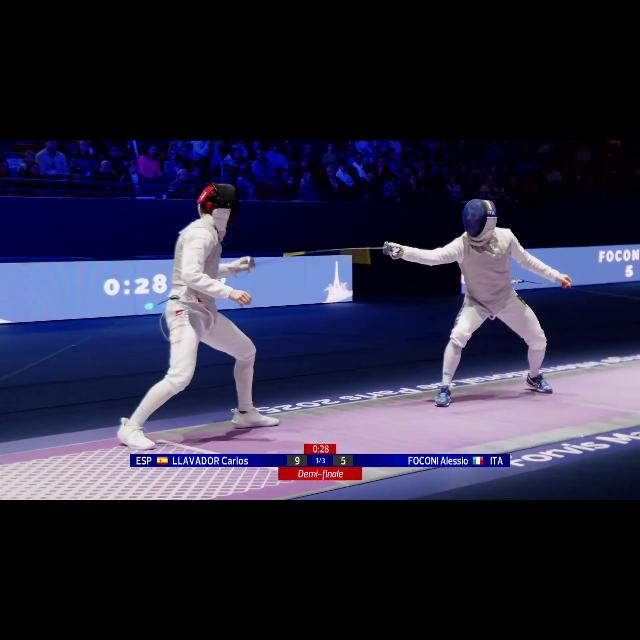blade: (284, 242, 401, 260), (241, 254, 311, 266)
